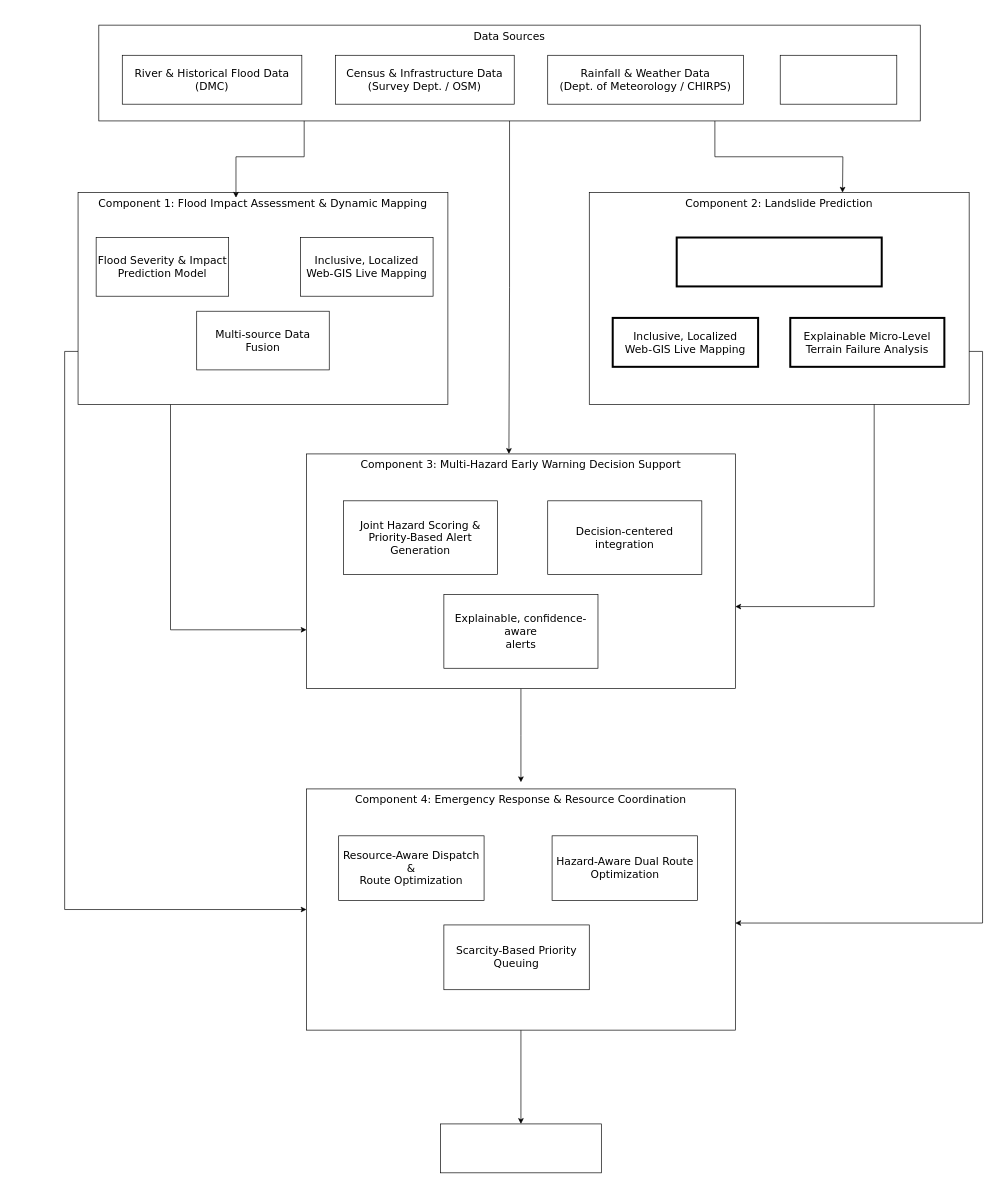
Image size: 1000x1185. Some labels were removed from this diagram. The centre of each missing label's shape, as x and y in pixels:
"Citizens / DMC Officers / District Authorities" belongs at [520,1148].
"DEM & Soil Data (SRTM / NBRO)" belongs at [838,79].
"Multi-Factor Probability Engine (Rainfall + Slope + Soil Saturation)" belongs at [778,261].
